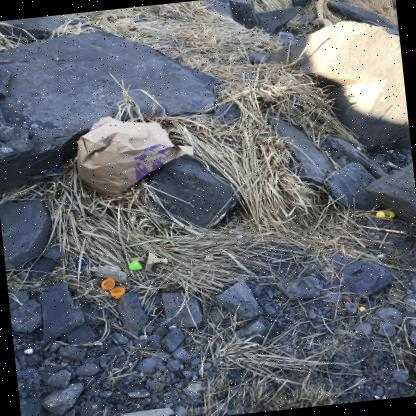Other plastic bottle: (110, 287, 125, 298), (101, 278, 115, 289), (128, 259, 142, 269), (384, 210, 395, 218), (376, 211, 385, 218), (359, 306, 364, 311)
Paper bag: (77, 115, 194, 196)
Unlabeled litter: (41, 165, 61, 173)
